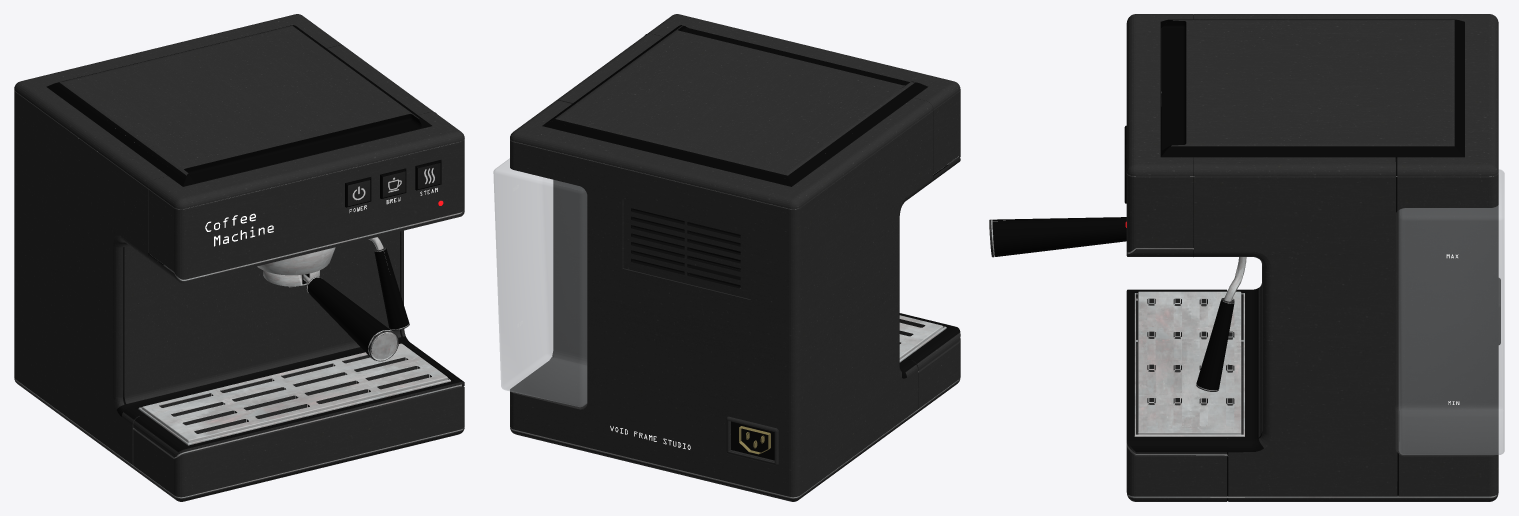
File: void_frame_studio__coffee_machine.glb
3 views of the same model, side by side, from view 1: azimuth 30°, elevation 25°; view 2: azimuth 150°, elevation 25°; view 3: azimuth 270°, elevation 25° (orthographic). The views are drawn at different scales.
Parts seen in each view (by area): view 1: CoffeMachine_0; view 2: CoffeMachine_0; view 3: CoffeMachine_0.
Part boxes in pixels (x1=…): CoffeMachine_0: x1=14, y1=14, x2=464, y2=501; CoffeMachine_0: x1=493, y1=14, x2=960, y2=501; CoffeMachine_0: x1=989, y1=14, x2=1504, y2=501.
Size of the model in its own units: 0.4006 by 0.4 by 0.5322.
Materials: 9 (3 with a texture image).
